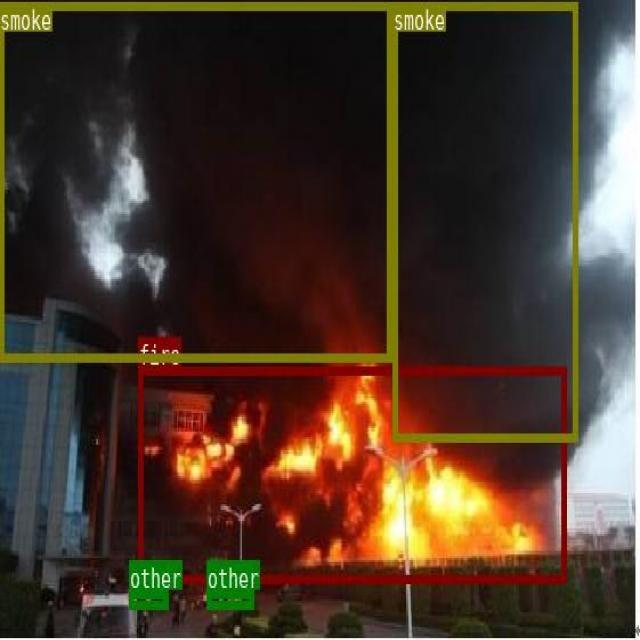fire: (138, 365, 565, 581)
smoke: (0, 1, 391, 360), (392, 0, 576, 441)
